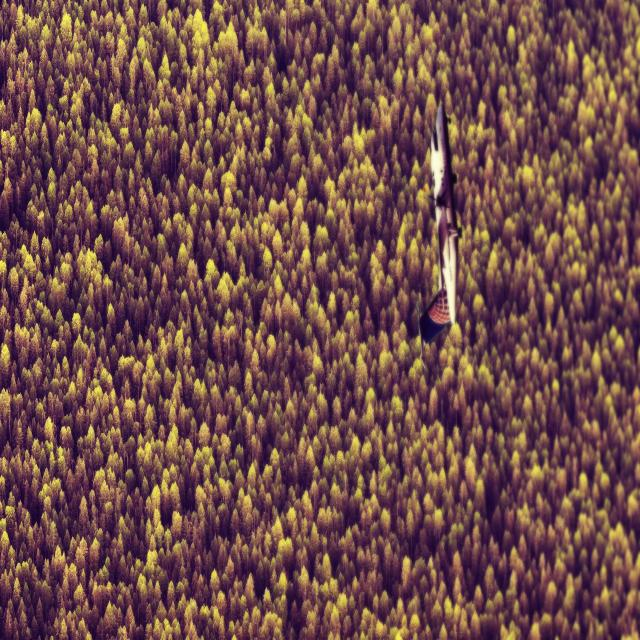airplane: (416, 100, 462, 368)
